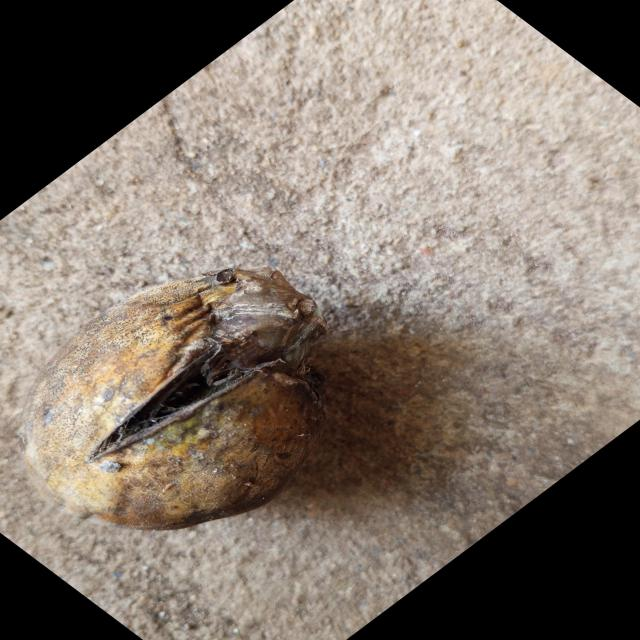damaged: (34, 267, 332, 530)
